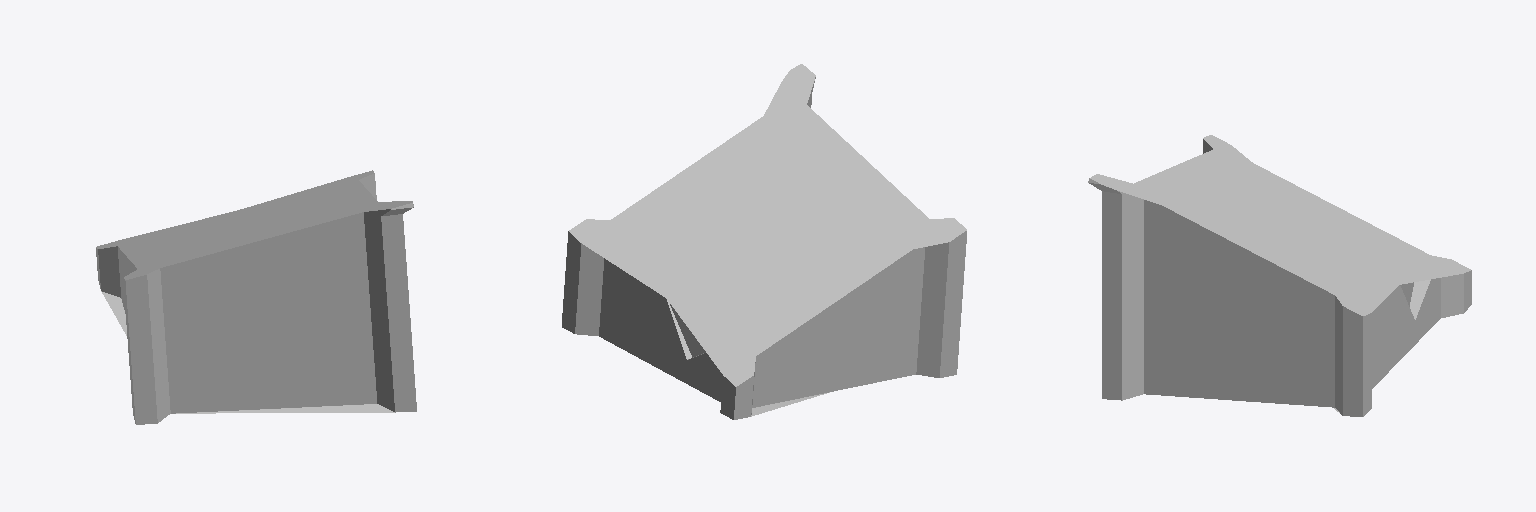
Rendered from Debris21.obj.
3 views of the same model, side by side, from view 1: azimuth 30°, elevation 25°; view 2: azimuth 150°, elevation 25°; view 3: azimuth 270°, elevation 25° (orthographic).
Parts seen in each view (by area): view 1: Debris21; view 2: Debris21; view 3: Debris21.
Part boxes in pixels (x1,y1,x2,y2): Debris21: (96, 170, 416, 424); Debris21: (562, 64, 966, 419); Debris21: (1088, 135, 1471, 416).
Bounding box in the file's own units: 5.47 × 3.42 × 5.51.